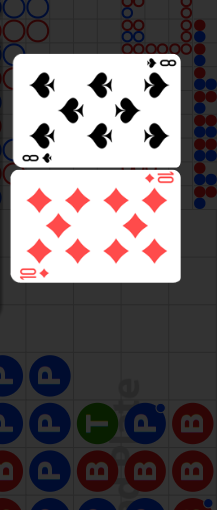10D: (19, 267, 51, 280)
8S: (144, 57, 177, 70)
